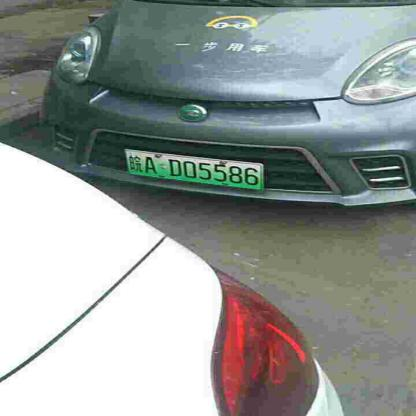lp: (124, 150, 262, 189)
